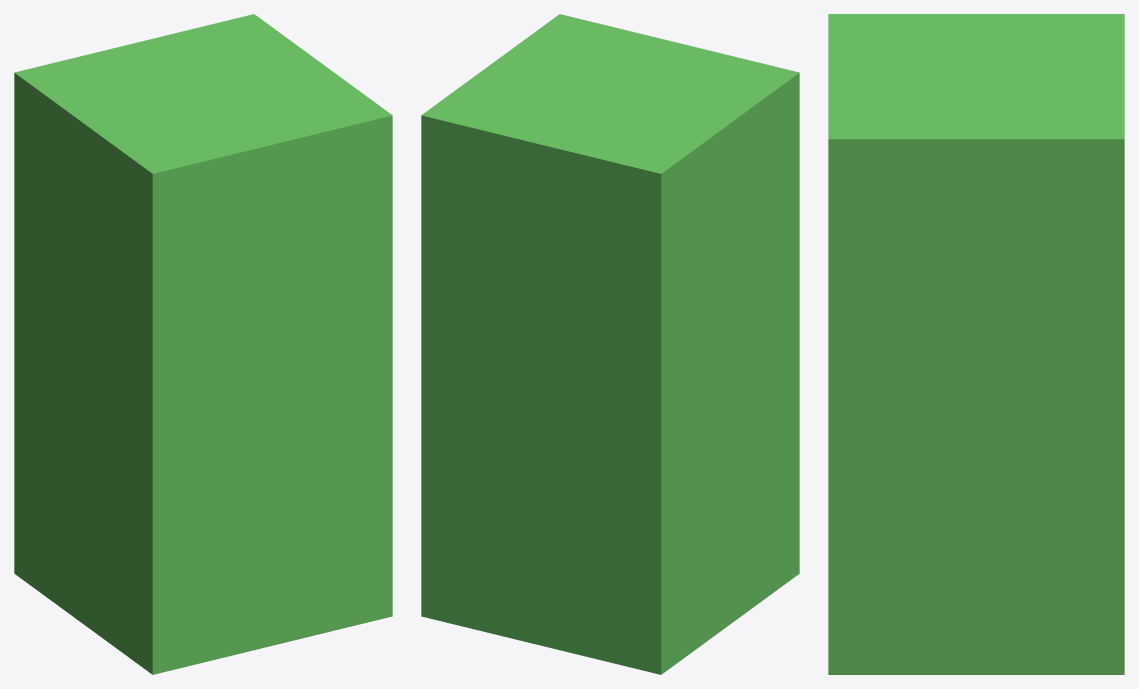
The model's file is PastelGreenThinEdge.fbx.
The picture shows the model from 3 angles, left to right: view 1: azimuth 30°, elevation 25°; view 2: azimuth 150°, elevation 25°; view 3: azimuth 270°, elevation 25°; orthographic projection. The views are drawn at different scales.
Parts seen in each view (by area): view 1: 4.BODY.green.007; view 2: 4.BODY.green.007; view 3: 4.BODY.green.007.
Boxes of the visible parts, x1=… form: 4.BODY.green.007: x1=14, y1=14, x2=392, y2=674; 4.BODY.green.007: x1=421, y1=14, x2=799, y2=674; 4.BODY.green.007: x1=828, y1=14, x2=1124, y2=674.
Bounding box in the file's own units: 100 × 201 × 101.
